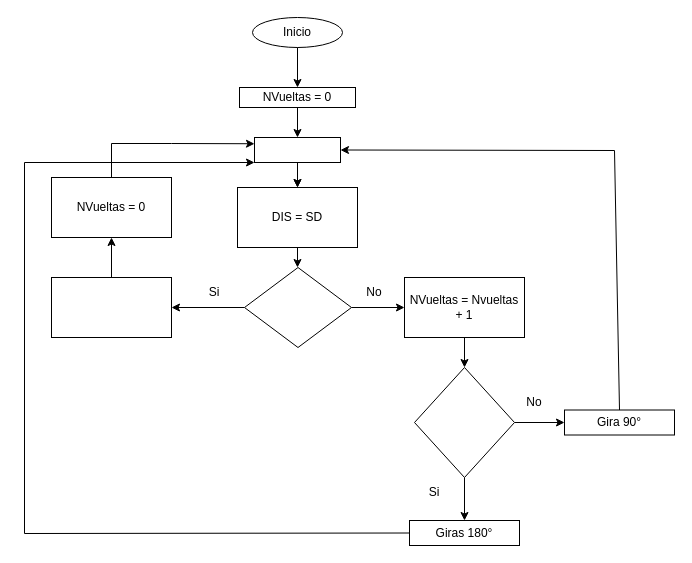
Some shapes in this 692 by 563 pixel diagram are drawn without their labels. Each missing label, with the box of its shape:
Avanza 10cm: (50, 276, 172, 338)
Leer sensor distancia (SD): (254, 136, 340, 162)
Si DIS => 10cm: (244, 266, 352, 348)
Si NVueltas > 1: (414, 366, 514, 478)
